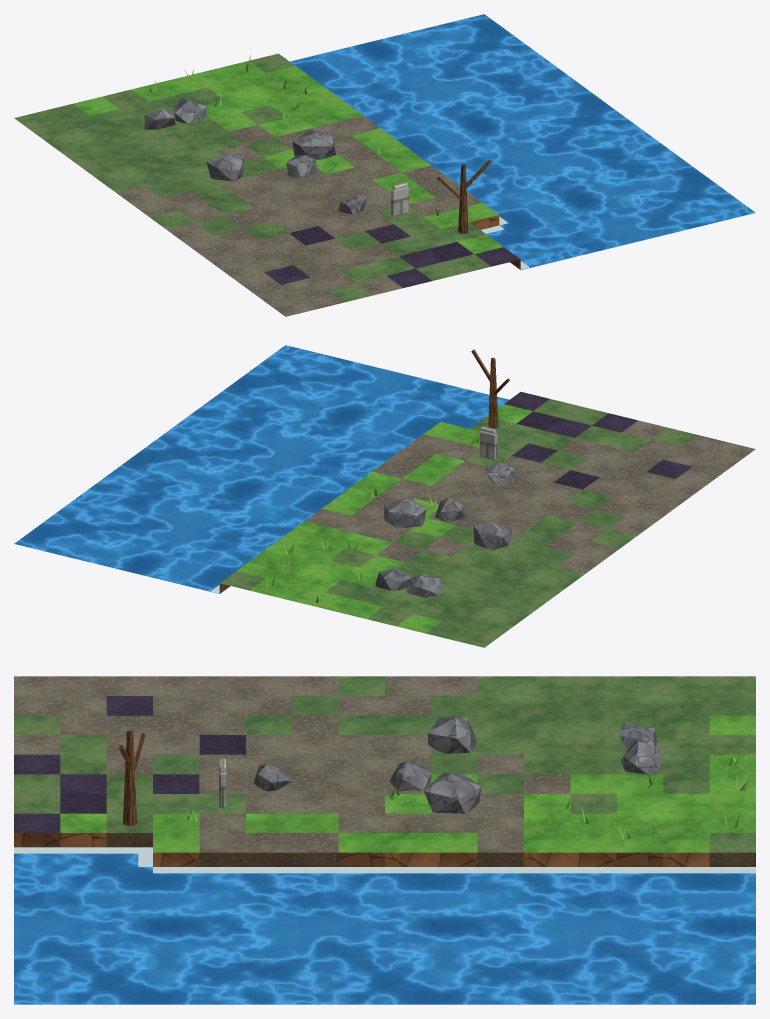
Rendered from chunk_3_22.glb.
3 views of the same model, one above another, from view 1: azimuth 30°, elevation 25°; view 2: azimuth 150°, elevation 25°; view 3: azimuth 270°, elevation 25° (orthographic). The views are drawn at different scales.
Parts seen in each view (by area): view 1: chunk_3_22; view 2: chunk_3_22; view 3: chunk_3_22.
Part boxes in pixels (x1,y1,x2,y2): chunk_3_22: (14,14,755,316); chunk_3_22: (14,345,755,647); chunk_3_22: (14,676,755,1004).
Bounding box in the file's own units: 16 × 2.6 × 16.
15 materials, 13 textured.
